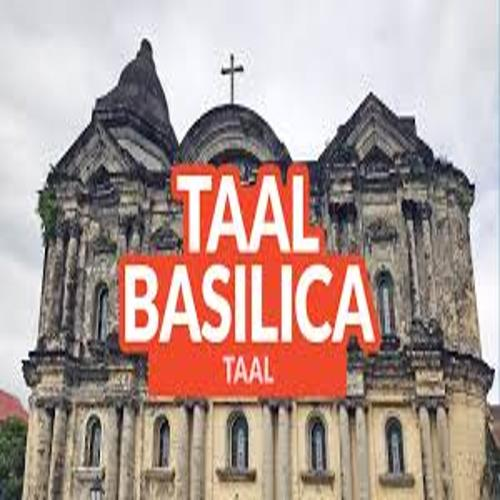Taal Basilica Church: (27, 30, 500, 500)
